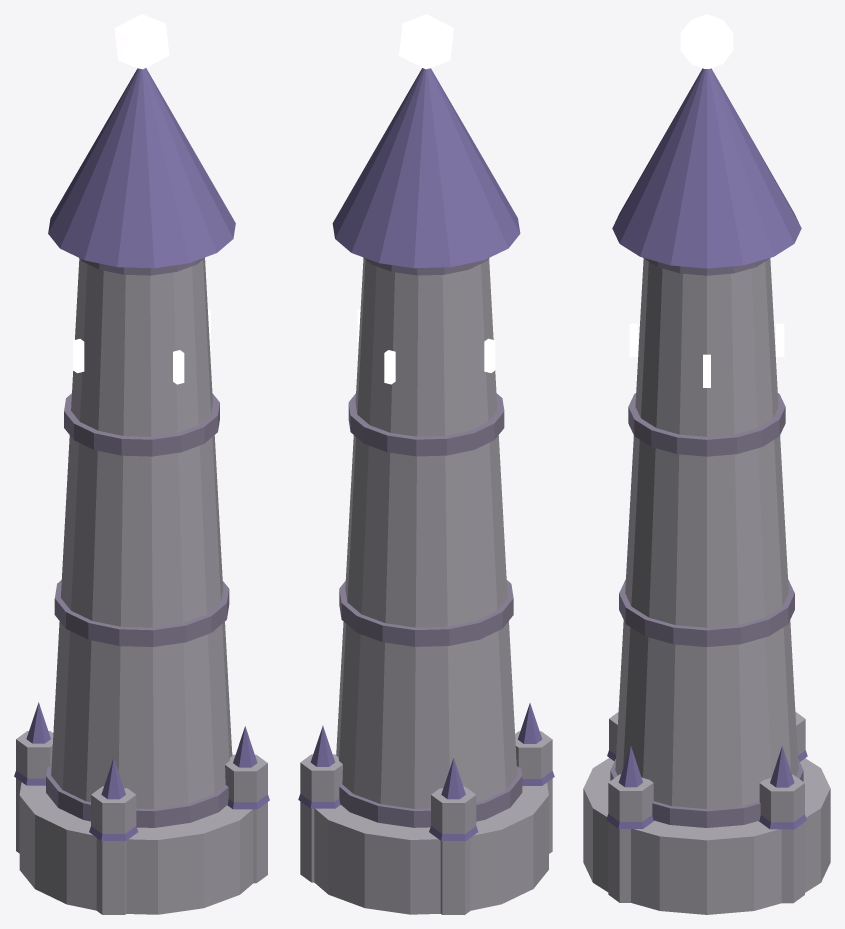
The model's file is association_spire.glb.
3 views of the same model, side by side, from view 1: azimuth 30°, elevation 25°; view 2: azimuth 150°, elevation 25°; view 3: azimuth 270°, elevation 25° (orthographic).
Parts seen in each view (by area): view 1: association_spire_LOD0; view 2: association_spire_LOD0; view 3: association_spire_LOD0.
Part boxes in pixels (box(x1,y1,x2,y2)): association_spire_LOD0: box(14, 14, 269, 914); association_spire_LOD0: box(298, 14, 554, 914); association_spire_LOD0: box(583, 14, 830, 914).
Size of what is drawn, in the model's own units: 12 by 45.5 by 12.
